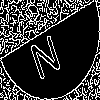N: (25, 24, 63, 82)
